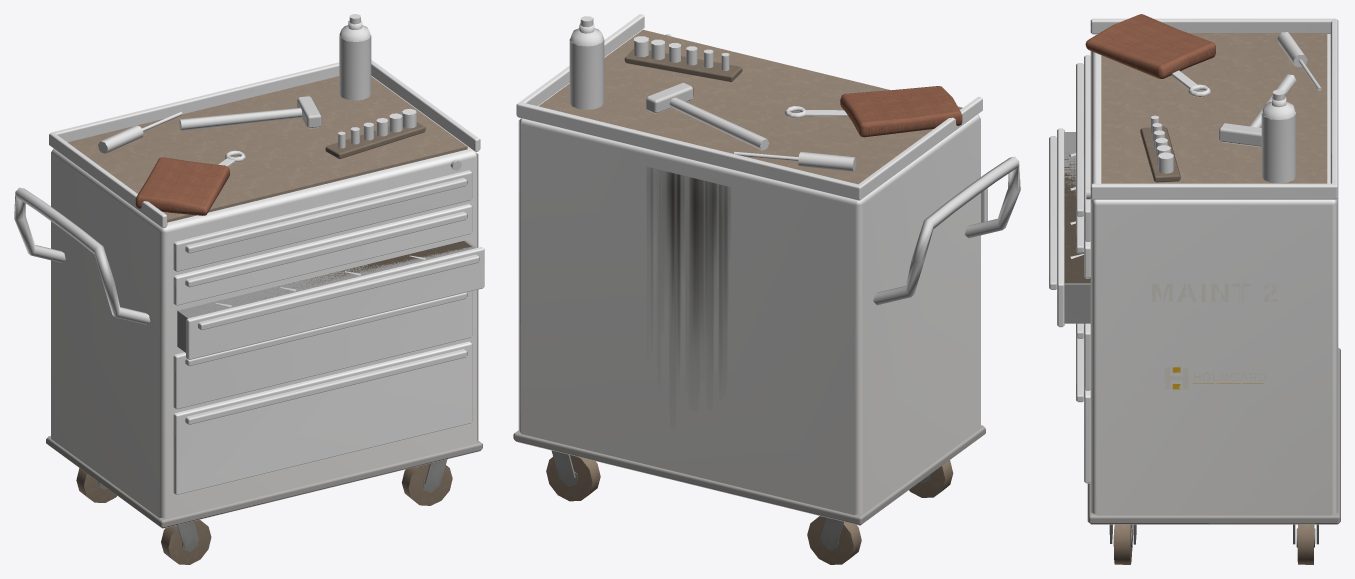
File: toolbox_cart.glb
3 renders of one model, left to right at view 1: azimuth 30°, elevation 25°; view 2: azimuth 150°, elevation 25°; view 3: azimuth 270°, elevation 25°, orthographic. The views are drawn at different scales.
Visible parts, largest first — view 1: toolbox_cart; view 2: toolbox_cart; view 3: toolbox_cart.
Part boxes in pixels (x1,y1,x2,y2): toolbox_cart: (14, 14, 484, 564); toolbox_cart: (513, 14, 1020, 564); toolbox_cart: (1049, 14, 1340, 564).
Size of the model in its own units: 0.8623 by 0.963 by 0.542.
14 materials, 14 textured.
